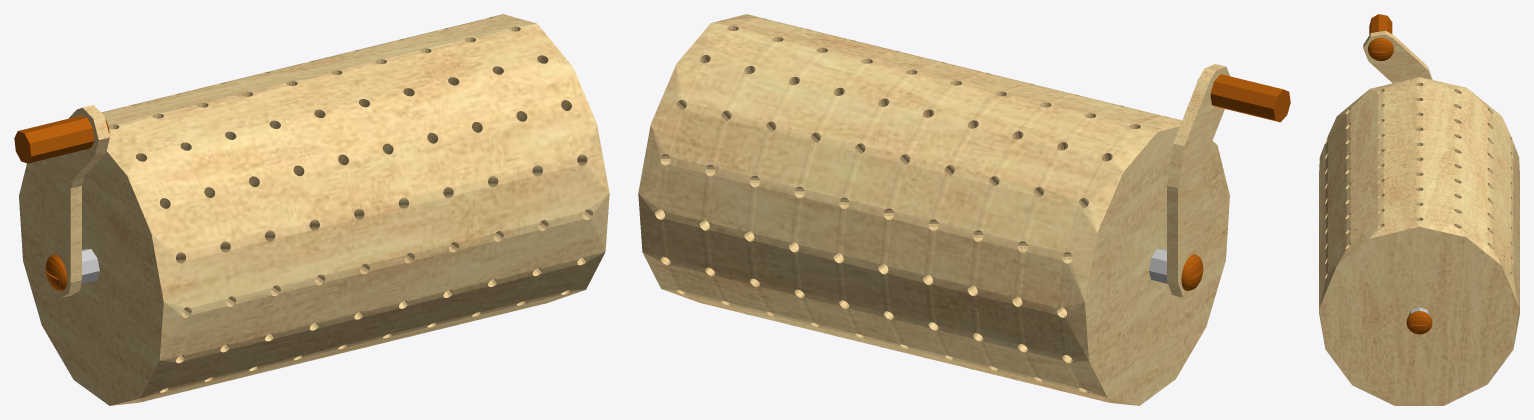
File: Teker2.obj
3 renders of one model, left to right at view 1: azimuth 30°, elevation 25°; view 2: azimuth 150°, elevation 25°; view 3: azimuth 270°, elevation 25°, orthographic. The views are drawn at different scales.
Bounding box in the file's own units: 3.8 × 2.03 × 1.7.
